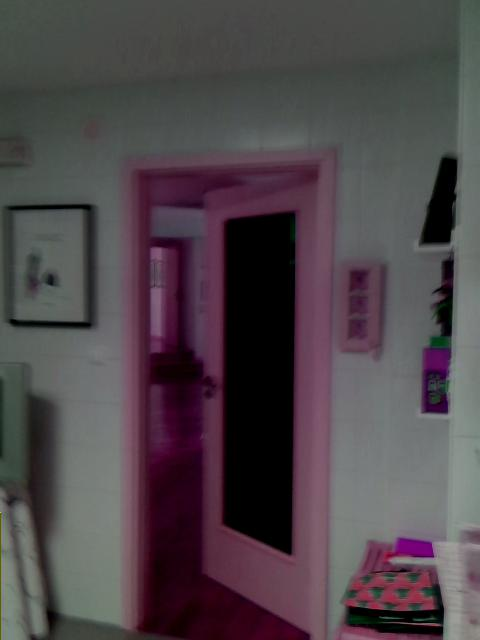semi_door: (116, 142, 339, 639)
